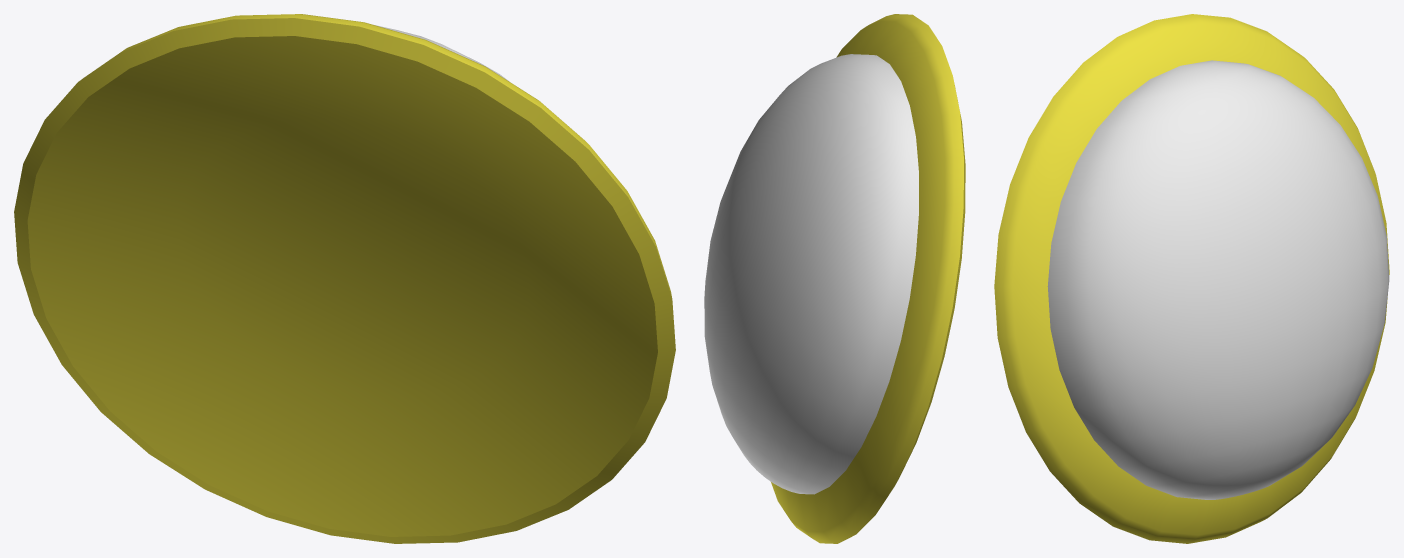
Rendered from Shield.fbx.
3 views of the same model, side by side, from view 1: azimuth 30°, elevation 25°; view 2: azimuth 150°, elevation 25°; view 3: azimuth 270°, elevation 25° (orthographic). The views are drawn at different scales.
Visible parts, largest first — view 1: ShieldItem; view 2: ShieldItem; view 3: ShieldItem.
Boxes of the visible parts, <box> form: ShieldItem: <box>14,14,675,543</box>; ShieldItem: <box>704,14,965,543</box>; ShieldItem: <box>994,14,1389,543</box>.
Bounding box in the file's own units: 74.61 × 97.25 × 75.53.
